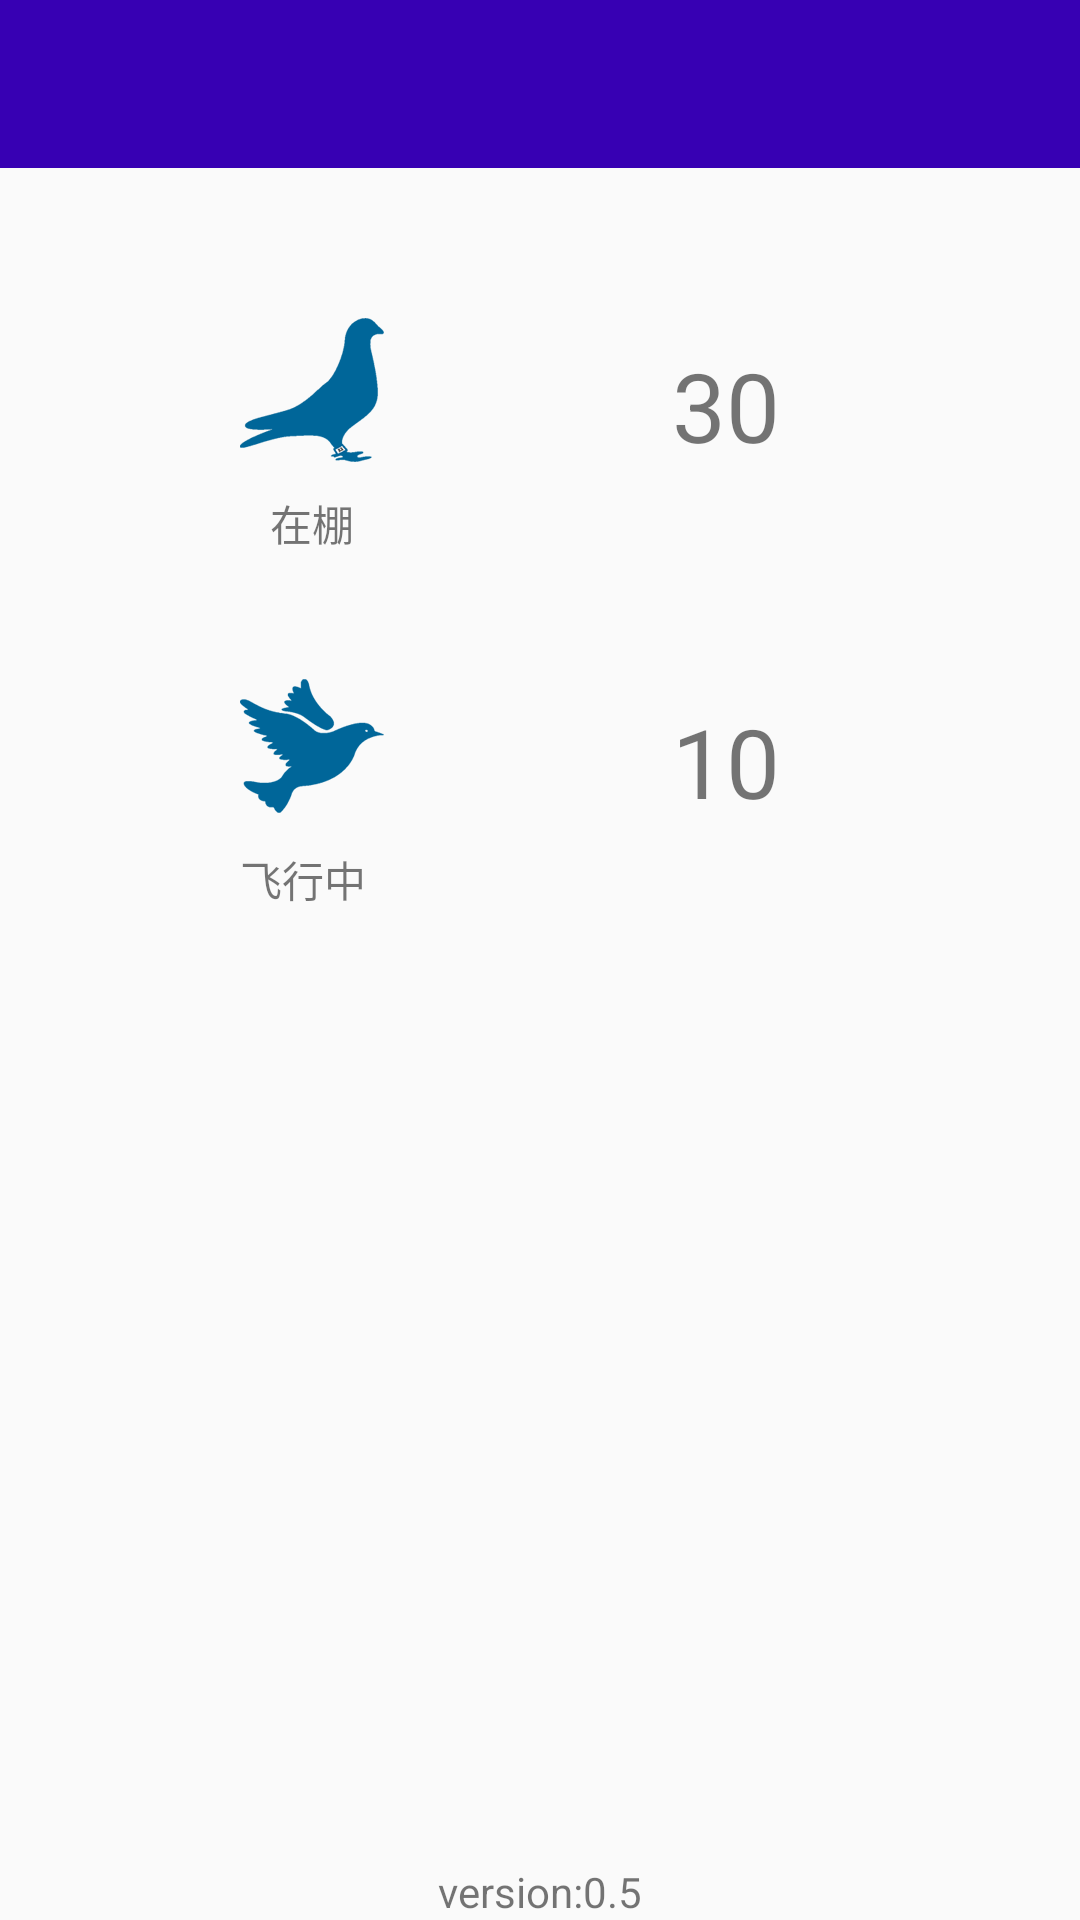

Point at icon controls on the screen. Image size 1080px x 1920px, points as point (x, y).
flying: point (312, 746)
